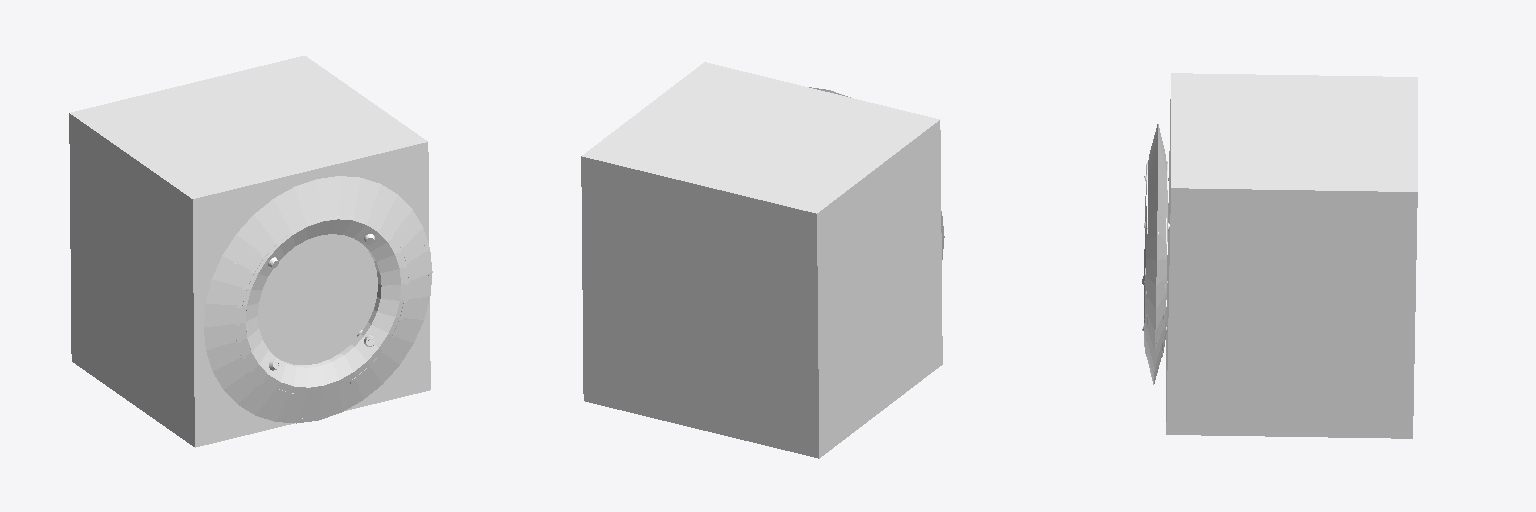
File: kame-wall.obj
3 views of the same model, side by side, from view 1: azimuth 30°, elevation 25°; view 2: azimuth 150°, elevation 25°; view 3: azimuth 270°, elevation 25° (orthographic).
Parts seen in each view (by area): view 1: Object.1, Object.3, Object.2; view 2: Object.1; view 3: Object.1, Object.3.
Boxes of the visible parts, x1=… form: Object.1: x1=69, y1=56, x2=430, y2=447; Object.3: x1=204, y1=176, x2=432, y2=423; Object.2: x1=246, y1=219, x2=400, y2=387; Object.1: x1=581, y1=62, x2=942, y2=458; Object.1: x1=1166, y1=73, x2=1417, y2=438; Object.3: x1=1144, y1=124, x2=1167, y2=384.
Size of the model in its own units: 1 by 1.02 by 1.01.